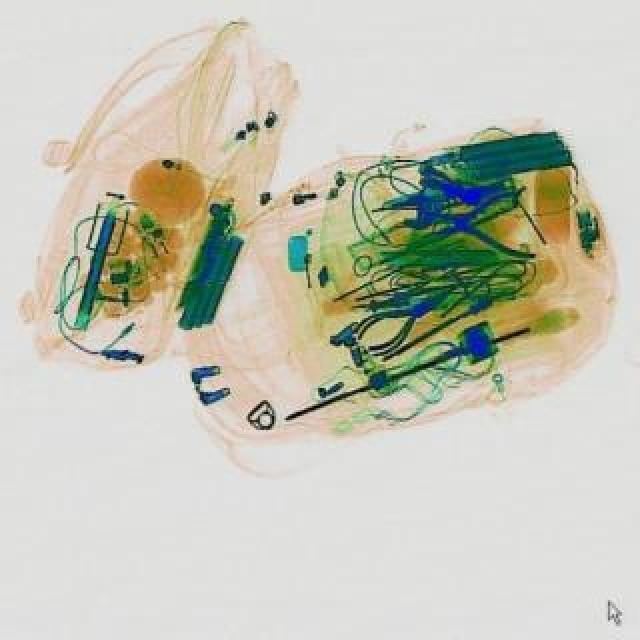scissors: (396, 168, 520, 232)
wrench: (346, 272, 466, 362), (416, 188, 536, 266)
